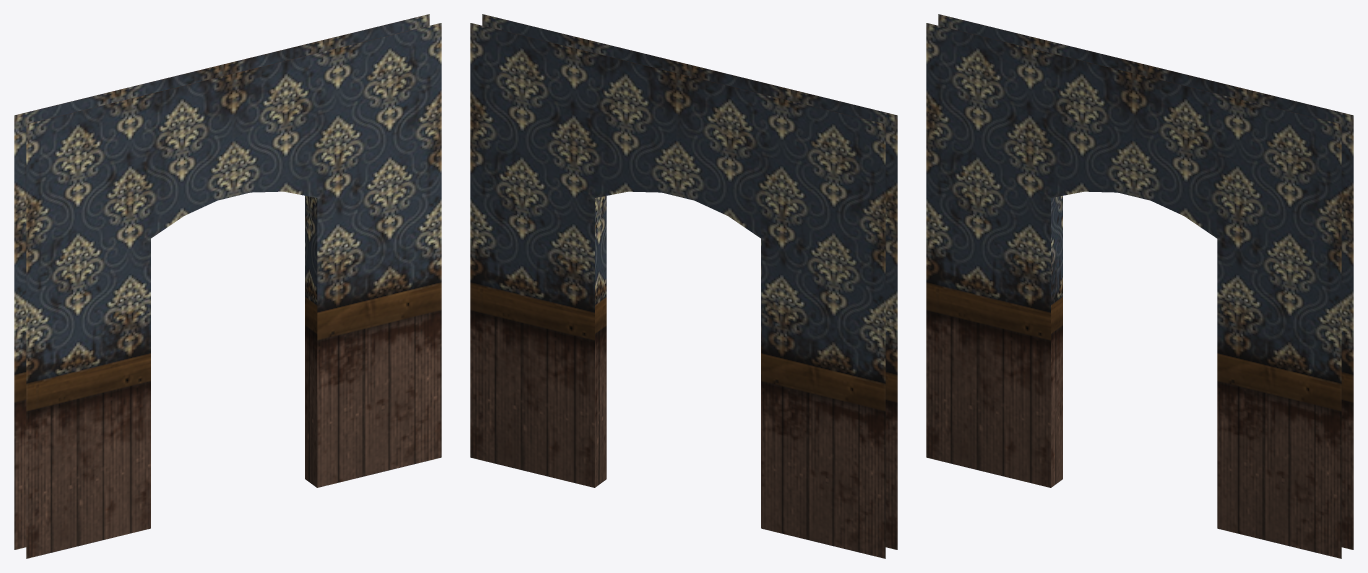
Rendered from wall_blue_archway_3.obj.
The picture shows the model from 3 angles, left to right: view 1: azimuth 30°, elevation 25°; view 2: azimuth 150°, elevation 25°; view 3: azimuth 330°, elevation 25°; orthographic projection.
Parts seen in each view (by area): view 1: Wall_Archway_Cap.001; view 2: Wall_Archway_Cap.001; view 3: Wall_Archway_Cap.001.
Boxes of the visible parts, left/top/right/bottom form: Wall_Archway_Cap.001: left=14, top=14, right=441, bottom=558; Wall_Archway_Cap.001: left=470, top=14, right=897, bottom=558; Wall_Archway_Cap.001: left=926, top=14, right=1353, bottom=558.
Size of the model in its own units: 3 by 3 by 0.15.
3 materials, 3 textured.
